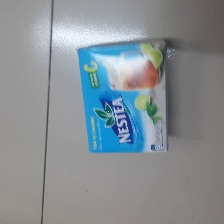Nestea: (76, 38, 171, 155)
